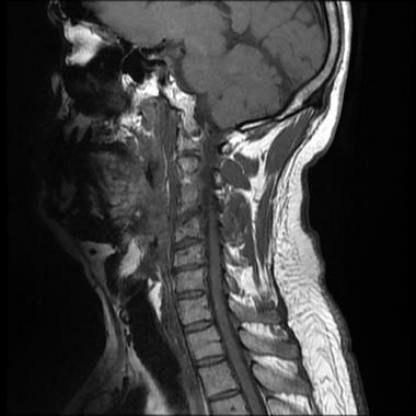Disc Protrusionrotation: (170, 260, 209, 275), (170, 235, 206, 251), (173, 288, 209, 304), (171, 211, 206, 224)
Osteophytesrotation: (169, 260, 208, 275), (173, 287, 209, 303), (170, 235, 206, 251), (171, 211, 206, 224)
